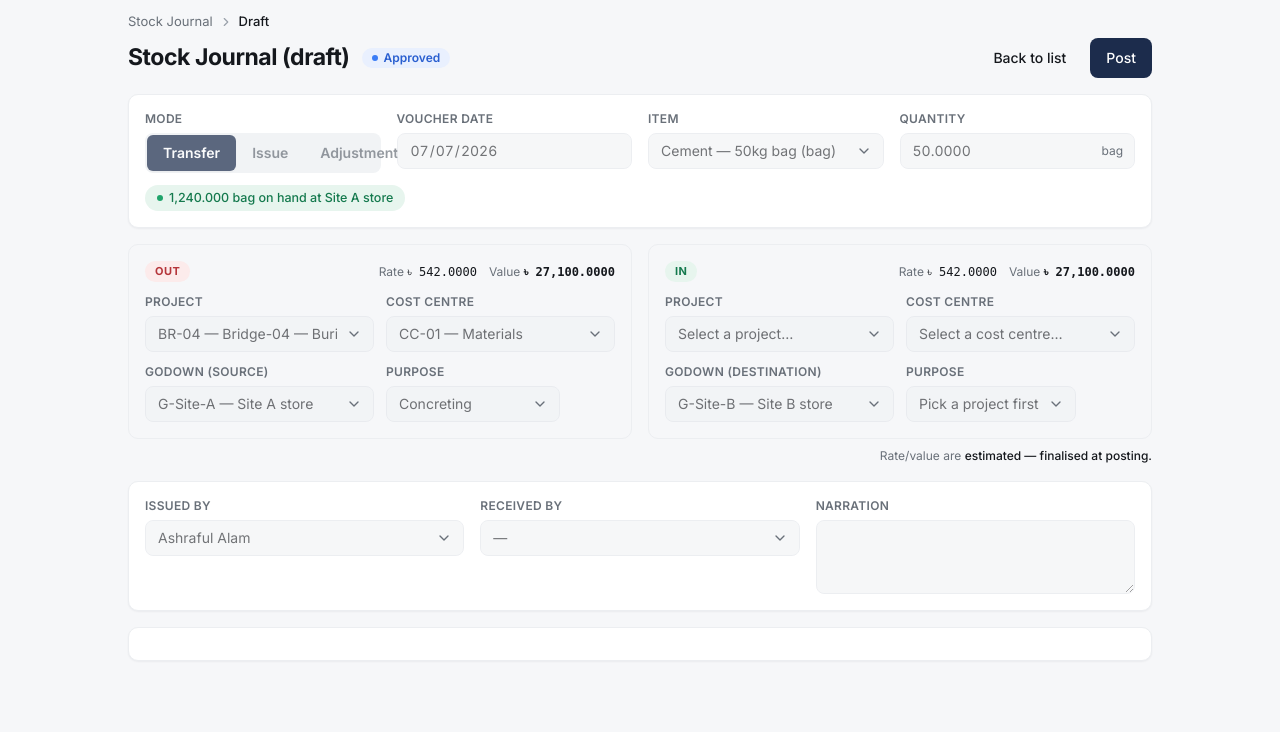
Test case: StockJournalEditor — lifecycle (FR-INV-012/018/020) › posts a value-neutral TRANSFER with the no-ledger-entry toast
The image size is (1280, 732).
Click the button with test id "sj-post".
click(1121, 58)  # box [1090, 38, 1152, 78]
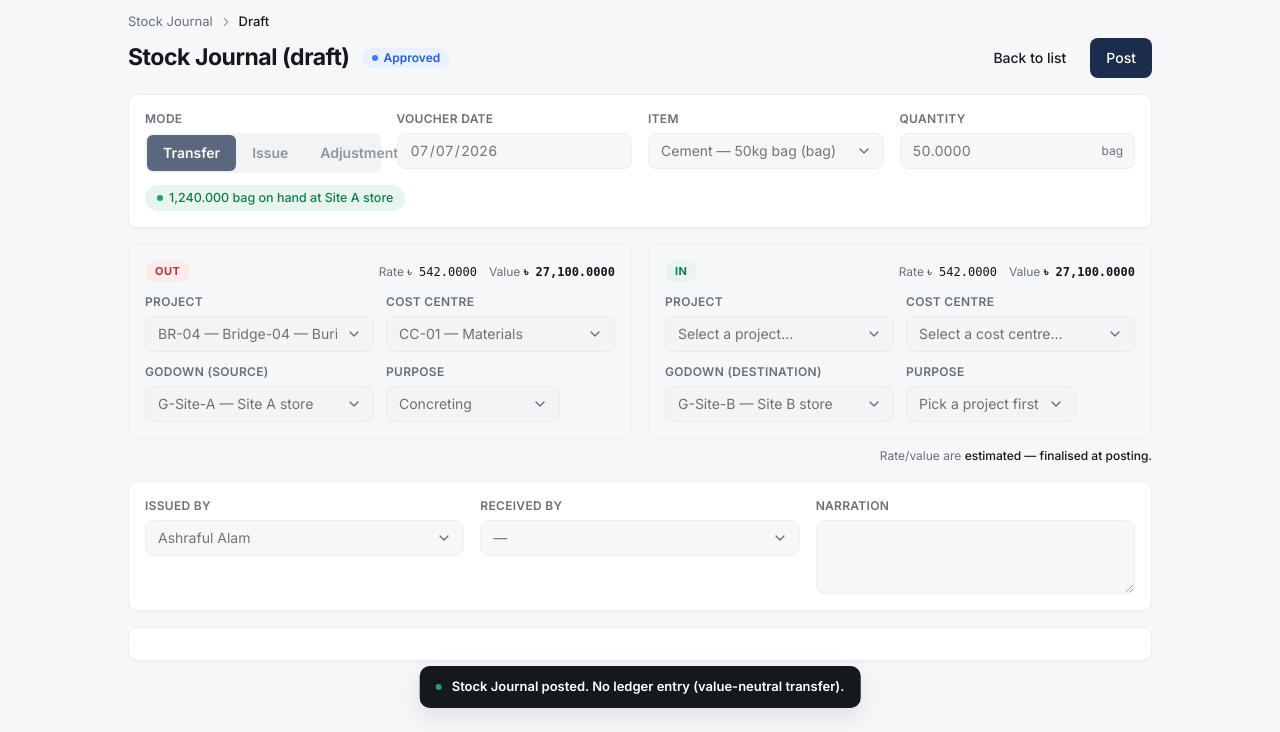
Result: the text "No ledger entry (value-neutral transfer)" is shown at [452, 678, 844, 694]
